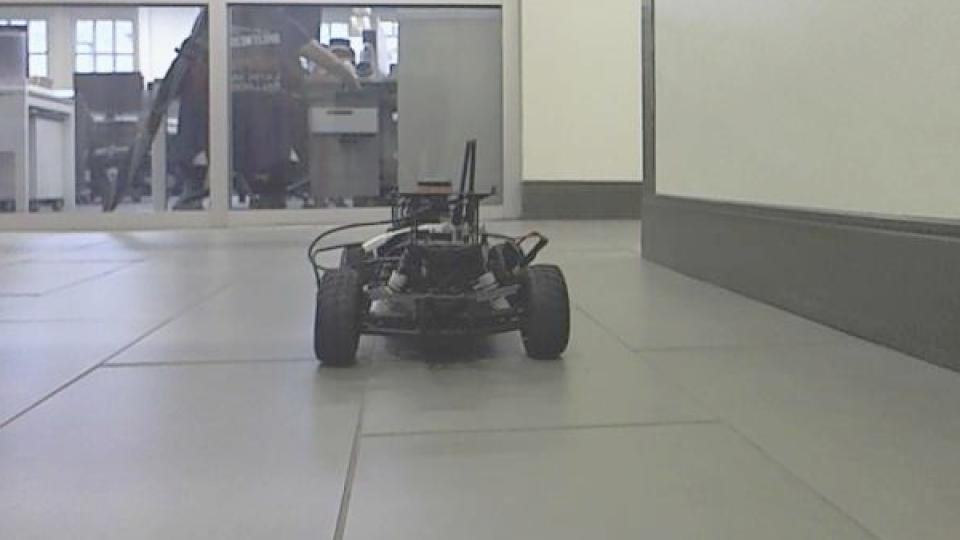car: (304, 136, 573, 370)
